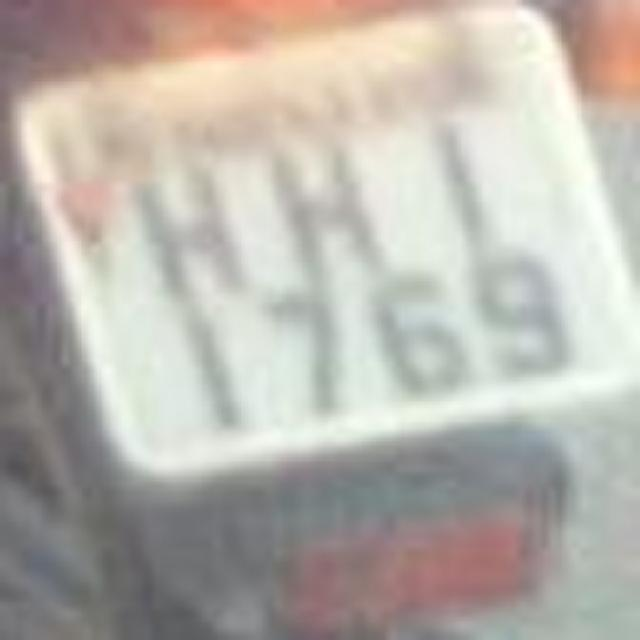1: (160, 300, 252, 432)
6: (356, 252, 476, 412)
7: (248, 284, 364, 416)
9: (460, 232, 580, 392)
B: (136, 156, 256, 296)
H: (268, 124, 388, 284)
J: (416, 109, 544, 276)
